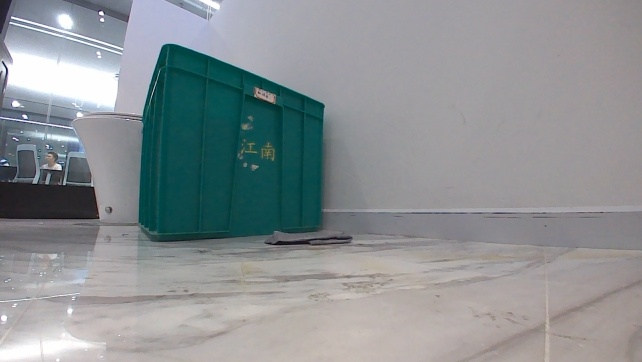socks: (262, 226, 353, 248)
toilet: (68, 108, 144, 226)
